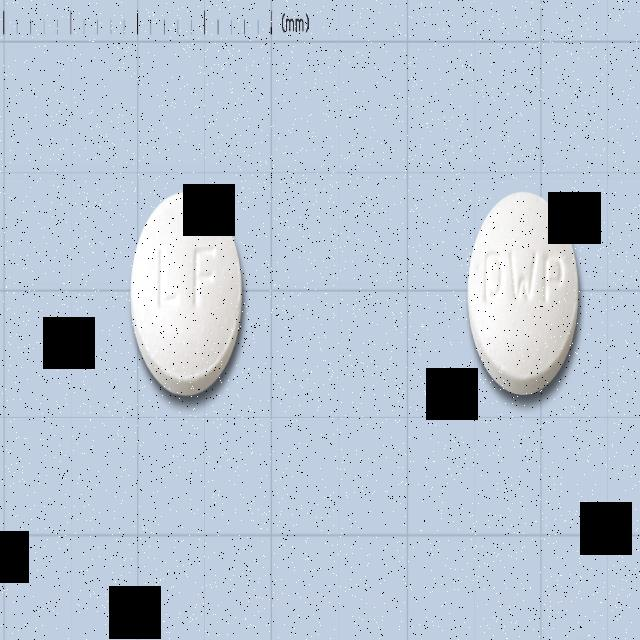Lefloxin: (129, 189, 243, 397), (468, 189, 578, 397)
